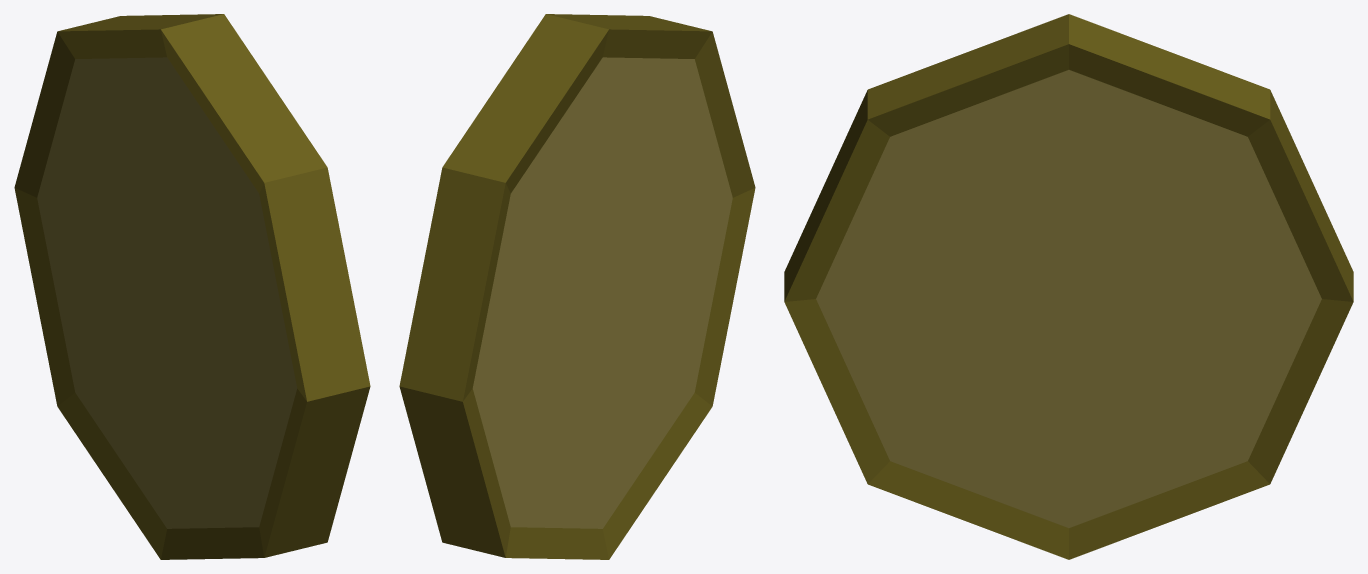
The model's file is gold.glb.
The picture shows the model from 3 angles, left to right: view 1: azimuth 30°, elevation 25°; view 2: azimuth 150°, elevation 25°; view 3: azimuth 270°, elevation 25°; orthographic projection. The views are drawn at different scales.
Parts seen in each view (by area): view 1: Cylinder; view 2: Cylinder; view 3: Cylinder.
Boxes of the visible parts, x1,y1,x2,y2 form: Cylinder: [14, 14, 370, 559]; Cylinder: [399, 14, 755, 559]; Cylinder: [784, 14, 1353, 559].
Size of the model in its own units: 0.25 by 2 by 2.
Materials: 1 (1 with a texture image).
